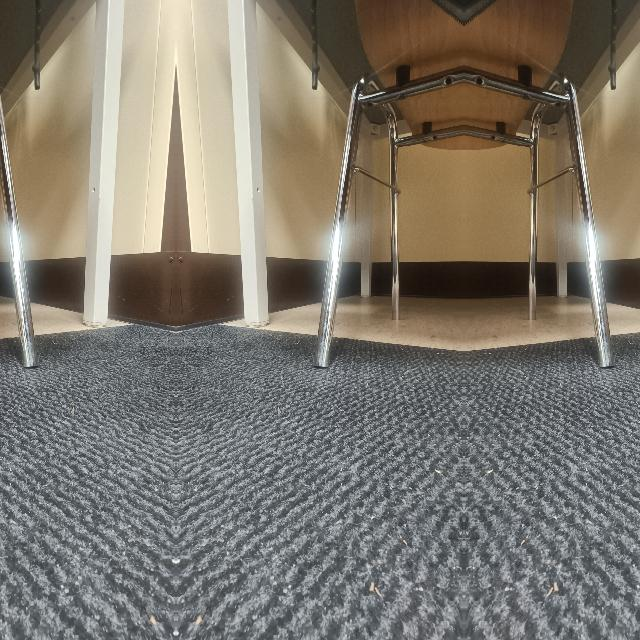obstacle: (568, 172, 616, 370), (312, 172, 358, 370), (0, 172, 38, 370)
